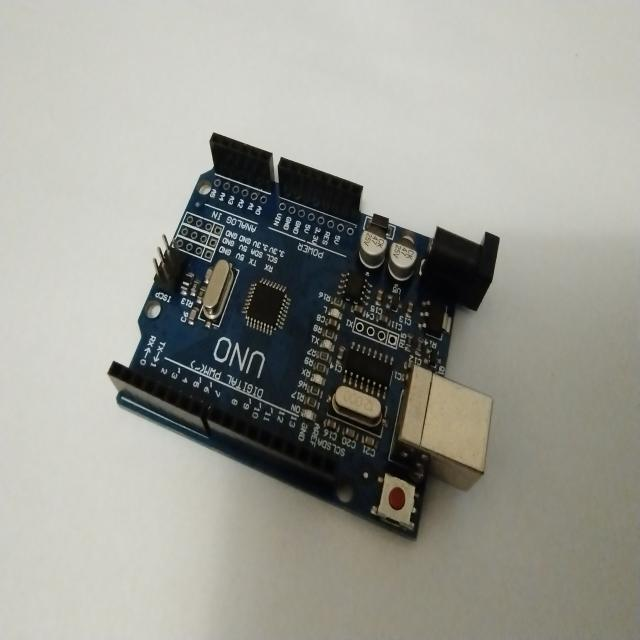arduino: (110, 122, 503, 556)
